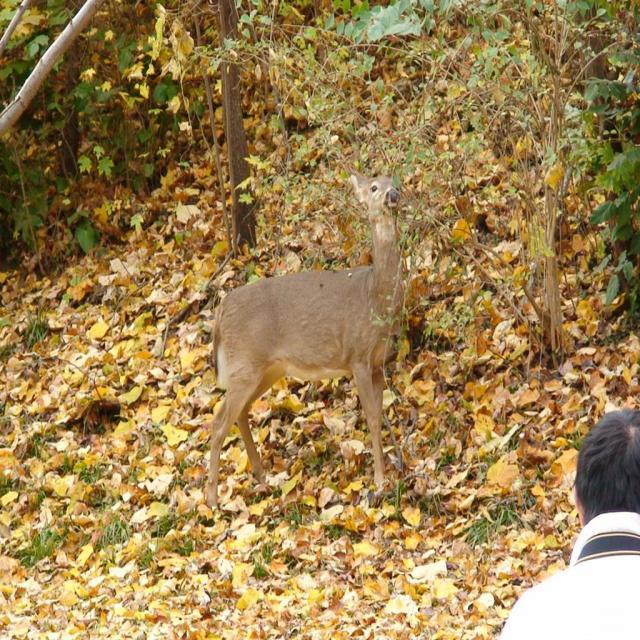Deer: (205, 177, 406, 514)
